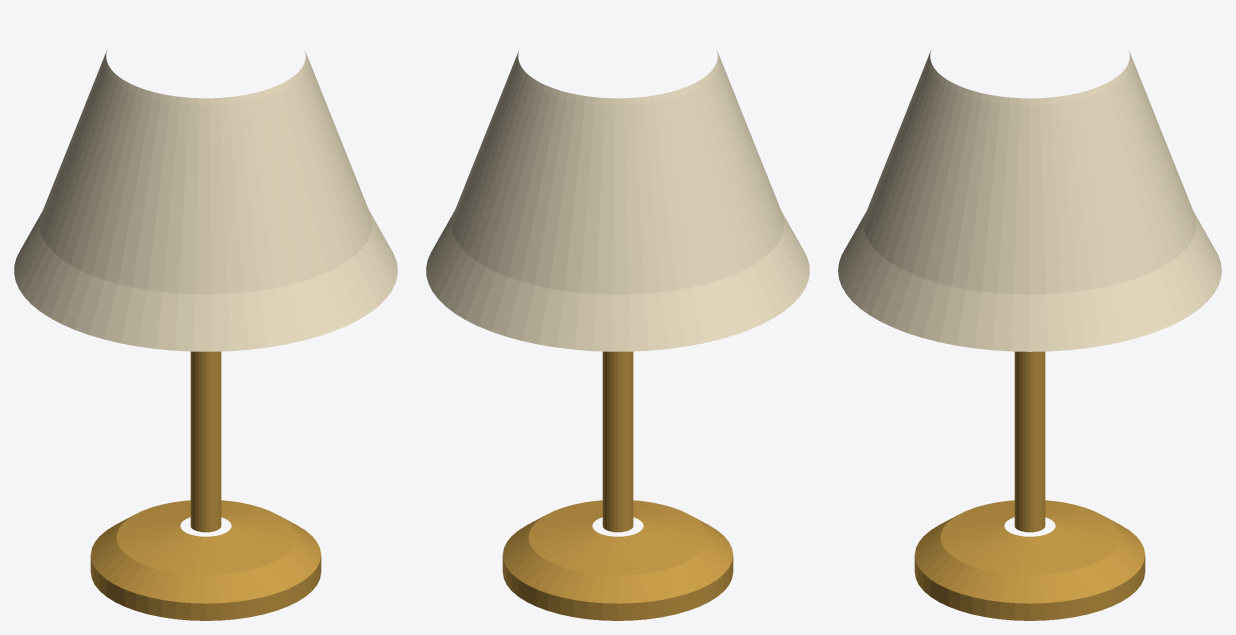
Rendered from table-lamp.gltf.
The picture shows the model from 3 angles, left to right: view 1: azimuth 30°, elevation 25°; view 2: azimuth 150°, elevation 25°; view 3: azimuth 270°, elevation 25°; orthographic projection.
Visible parts, largest first — view 1: Shade, Base, Stem; view 2: Shade, Base, Stem; view 3: Shade, Base, Stem.
Boxes of the visible parts, bbox=[...] form: Shade: bbox=[14, 50, 397, 351]; Base: bbox=[90, 500, 321, 620]; Stem: bbox=[190, 351, 221, 532]; Shade: bbox=[426, 50, 809, 351]; Base: bbox=[502, 500, 733, 620]; Stem: bbox=[602, 351, 633, 532]; Shade: bbox=[838, 50, 1221, 351]; Base: bbox=[914, 500, 1145, 620]; Stem: bbox=[1014, 351, 1045, 532].
Size of the model in its own units: 0.3 by 0.445 by 0.3.
